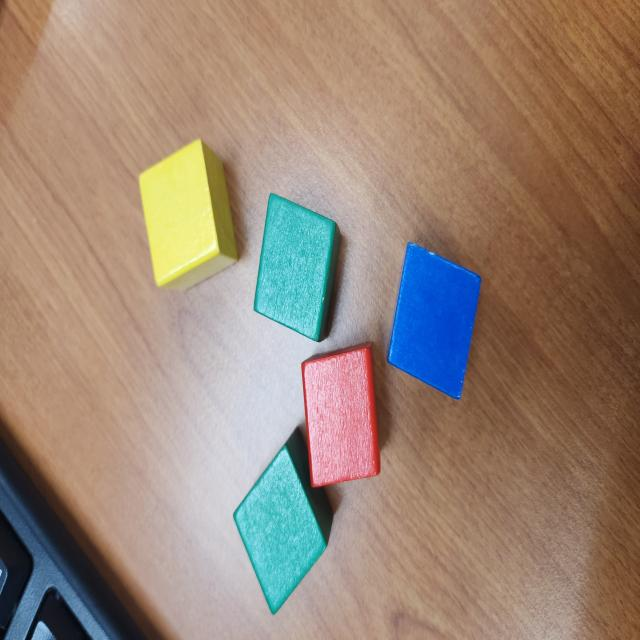blue: (387, 242, 483, 401)
green: (232, 426, 334, 616), (251, 191, 342, 344)
red: (300, 342, 384, 490)
yellow: (138, 138, 239, 295)
